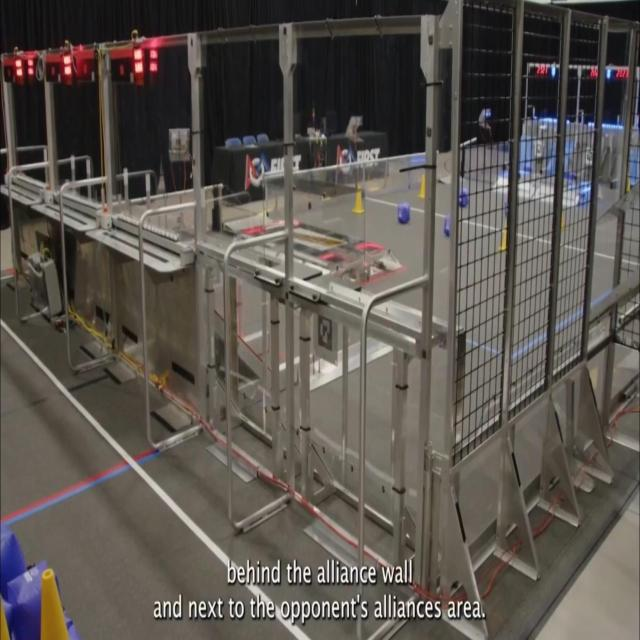frc_cone: (40, 565, 71, 638), (0, 593, 10, 639), (498, 219, 508, 252), (353, 192, 364, 215), (418, 174, 426, 200)
frc_cube: (7, 562, 54, 635), (0, 524, 25, 588), (397, 203, 410, 224), (458, 185, 469, 209), (444, 215, 452, 238)
